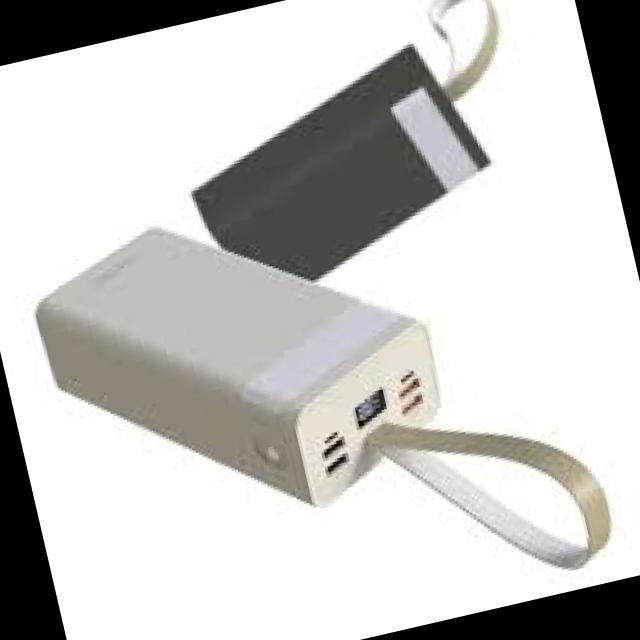power_bank: (18, 163, 466, 558), (165, 29, 508, 309)
